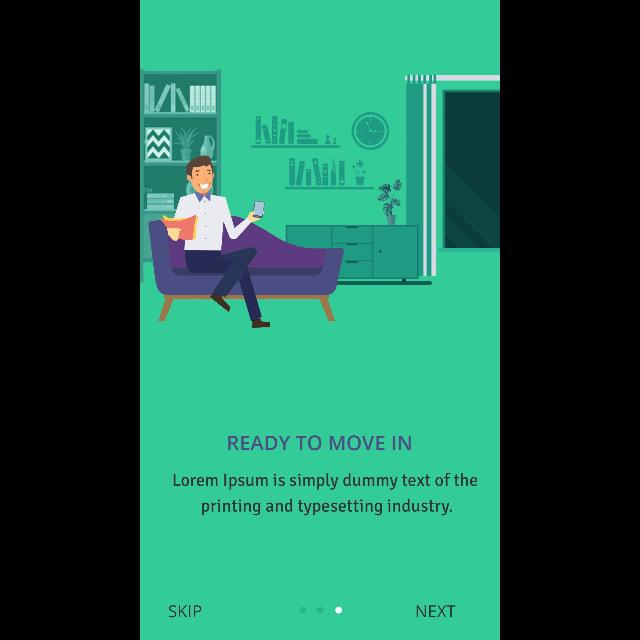image: (141, 70, 501, 328)
pageindicator: (300, 606, 344, 614)
text: (174, 472, 478, 516), (228, 436, 412, 450), (417, 604, 457, 618), (168, 604, 202, 618)
